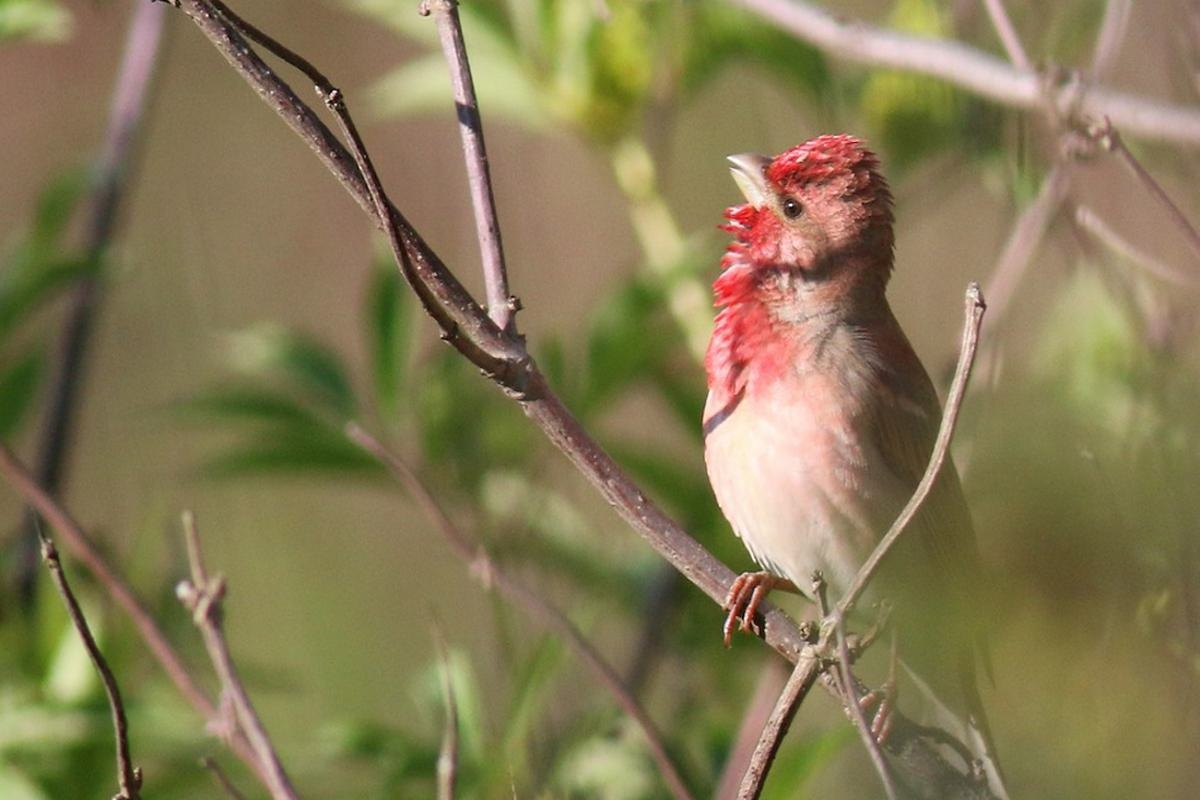rosefinch: (703, 131, 1023, 715)
